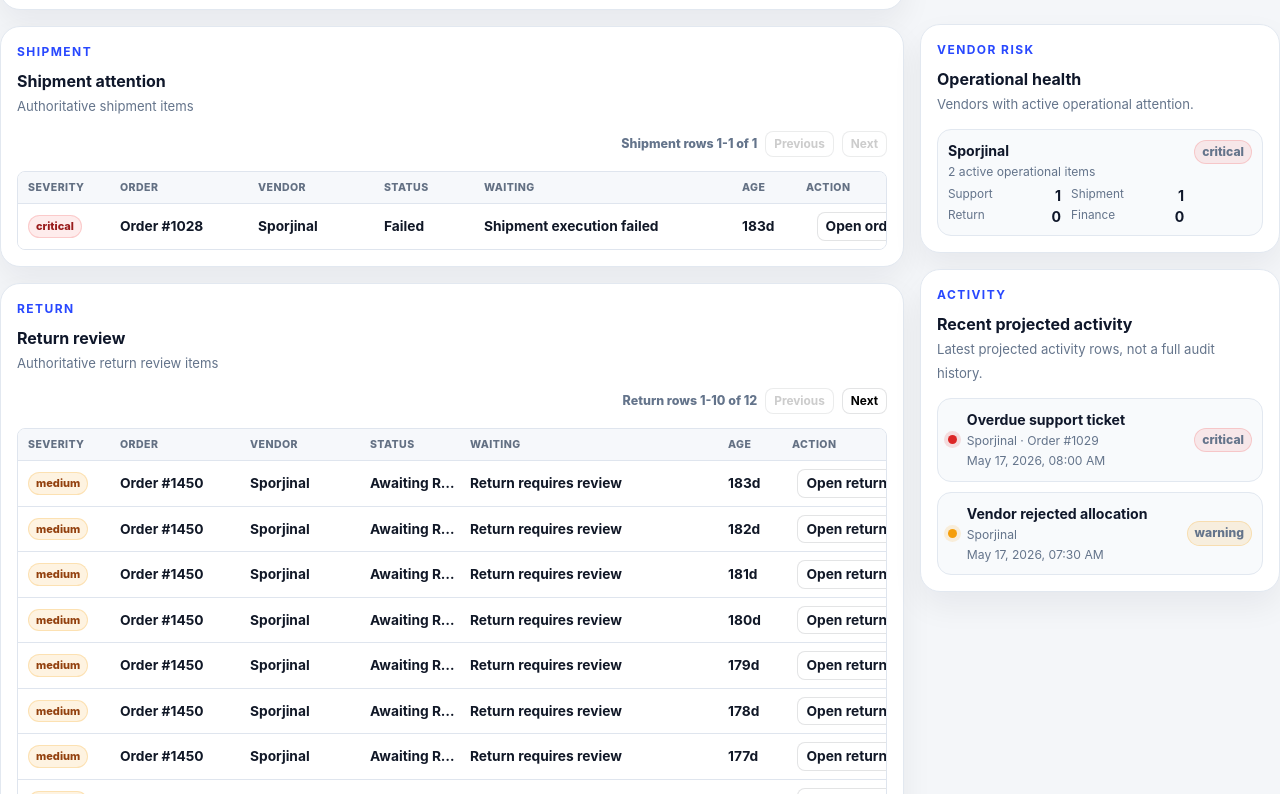
Test: AdminOperationsQueuePage attention center › pages Return independently while preserving one row per ReturnRecord
The width and height of the screenshot is (1280, 794).
(page scrolled)
expect the text "Return rows 1-10 of 12" is shown: met, box [623,392,757,410]
expect the button "Previous" next to "12" is disabled: met, box [765,388,834,414]
What coordinates should you click on to do the following:
click the button "Next" in the row of "12"
I would click on:
 (864, 401)
Its box is [842,388,887,414].
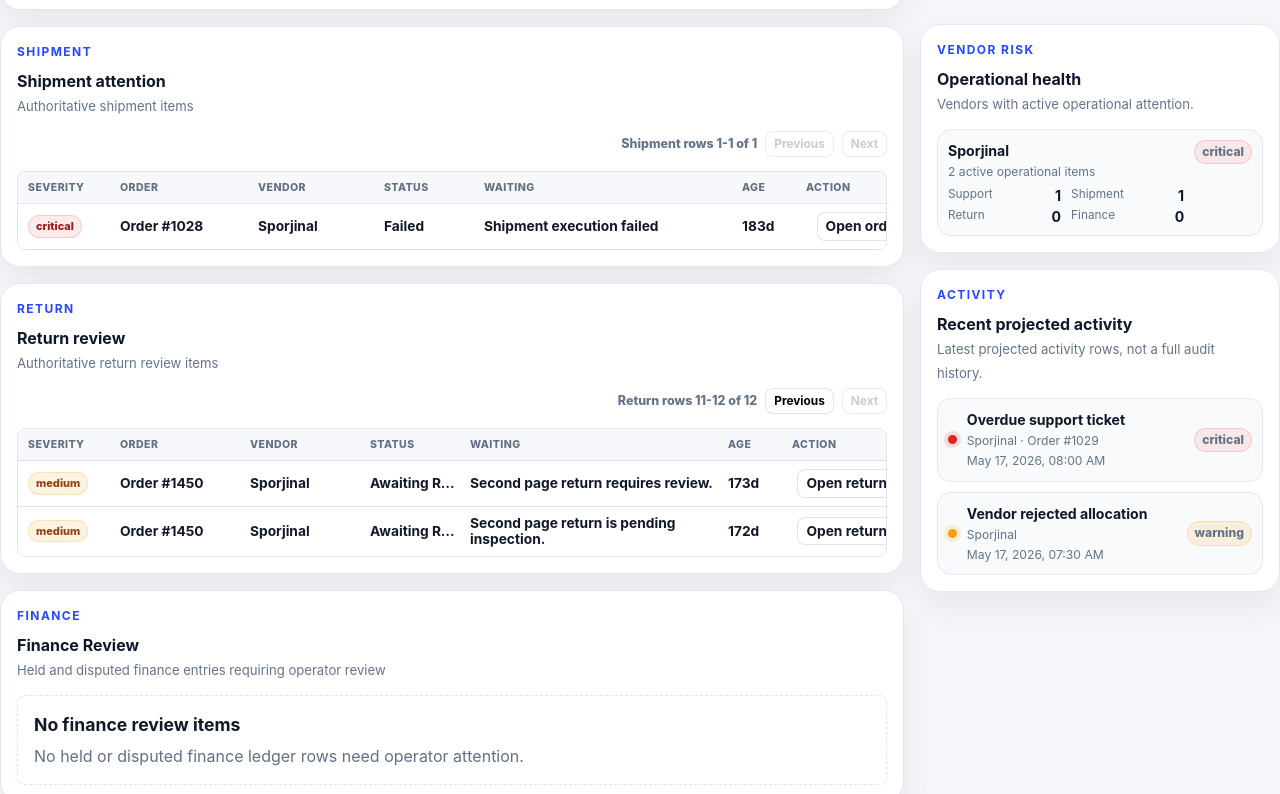
expect the text "Return rows 11-12 of 12" is shown: met, box [618,392,757,410]
expect the text "Second page return requires review." is shown: met, box [470,475,720,492]
expect the text "Second page return is pending inspection." is shown: met, box [470,514,675,547]
What coordinates should you click on to do the following:
click the button "Previous" in the row of "11"
I would click on:
 (800, 401)
Its box is [765,388,834,414].
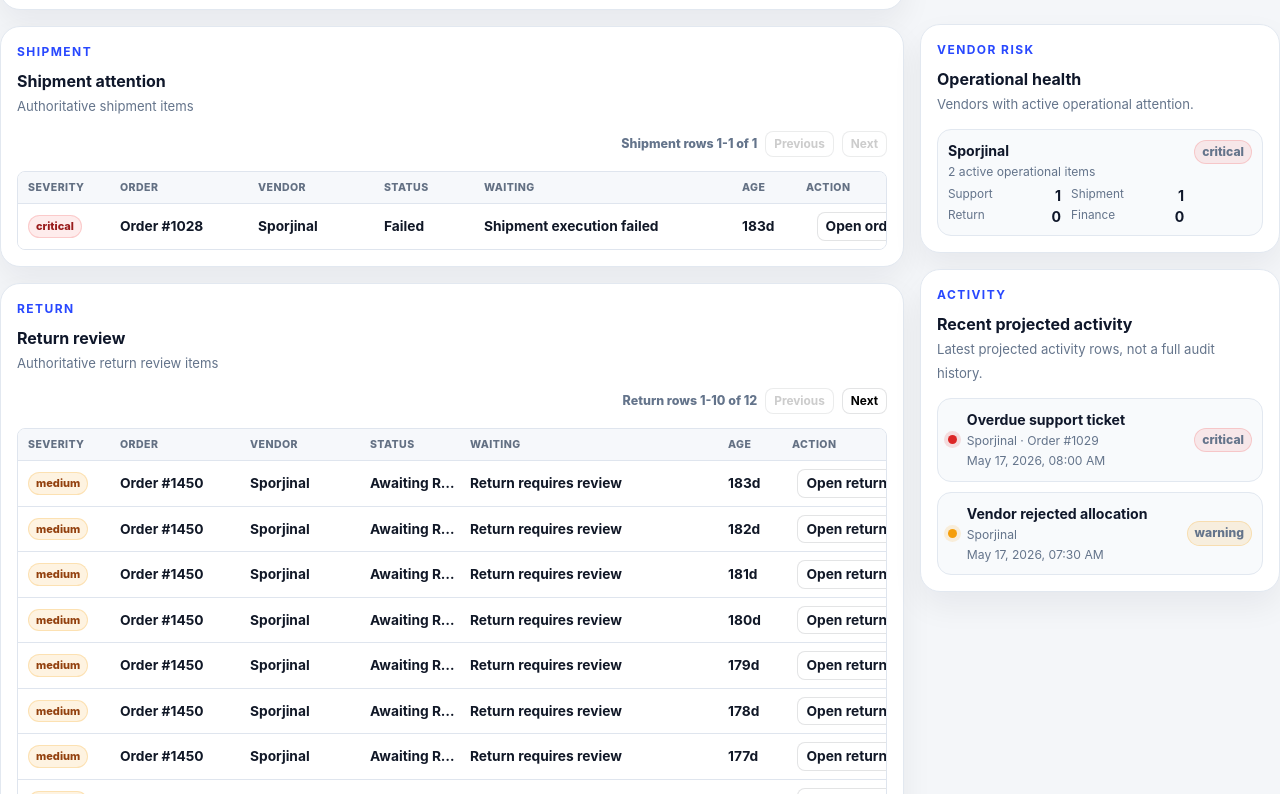
expect the text "Return rows 1-10 of 12" is shown: met, box [623,392,757,410]
